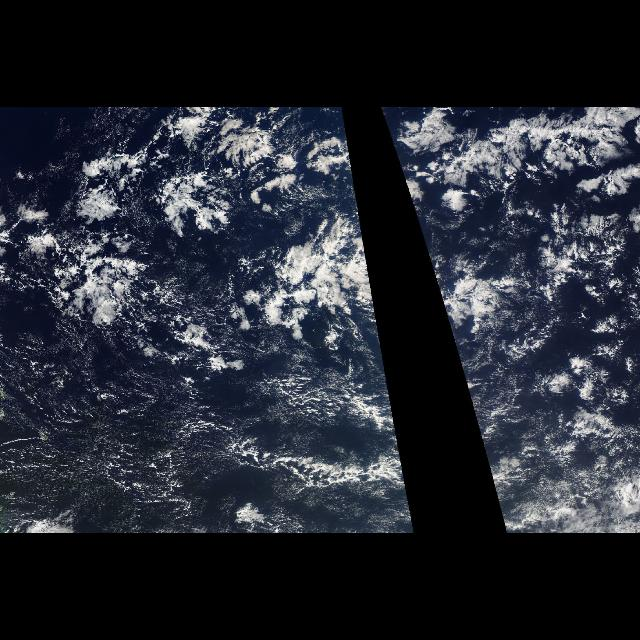Fish: (420, 107, 640, 193), (226, 435, 412, 499)
Sugar: (0, 335, 228, 531)
